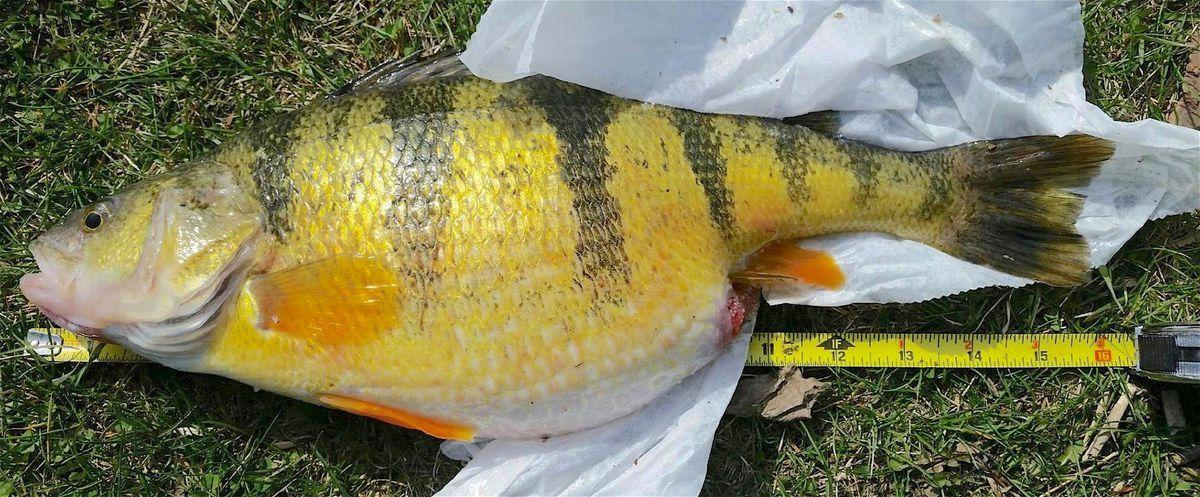Perch: (12, 50, 1105, 447)
